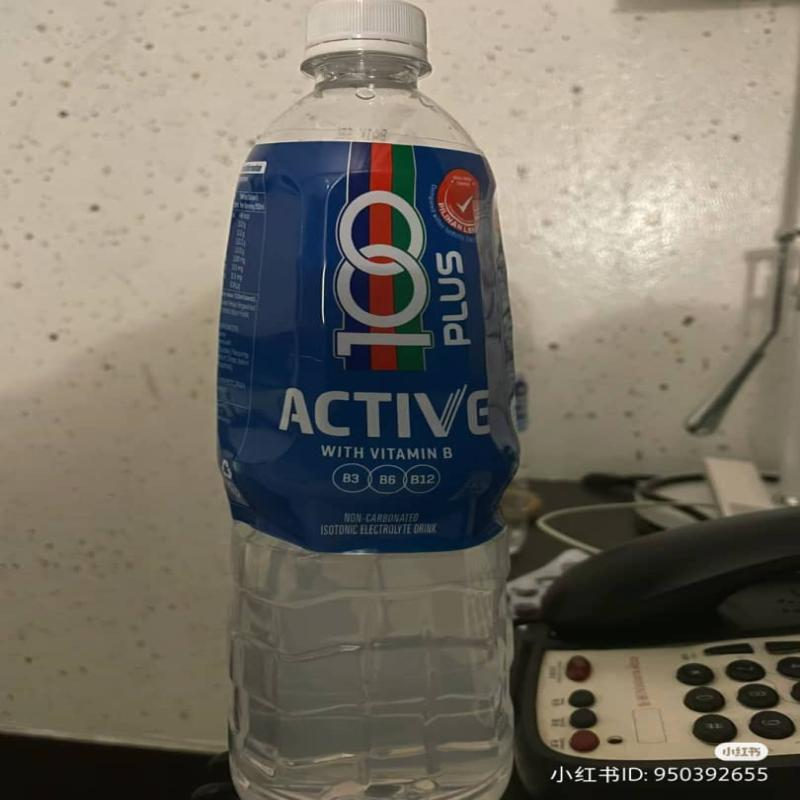botella: (225, 18, 527, 800)
